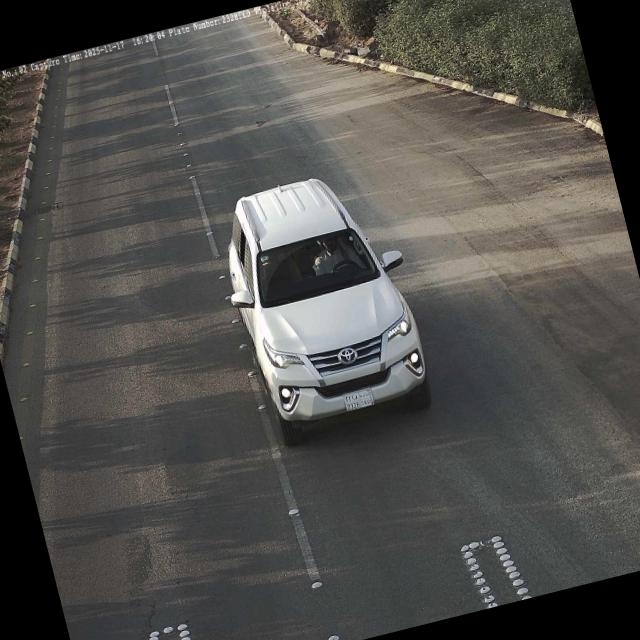person_without_seatbelt: (308, 228, 360, 278)
